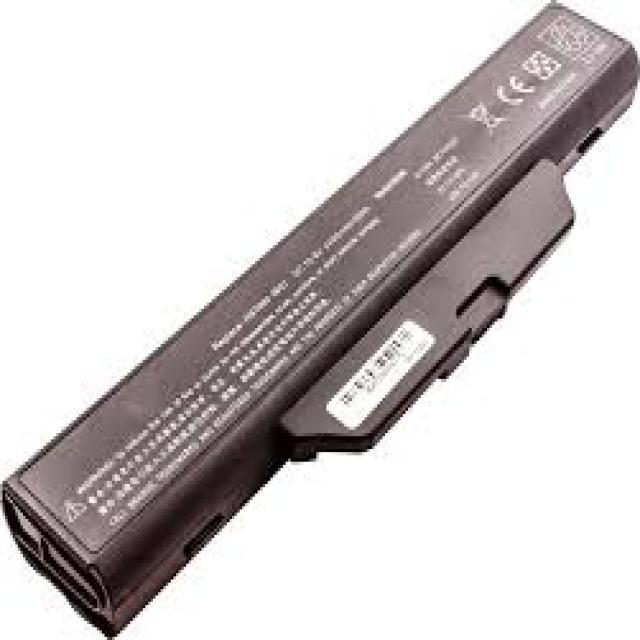Battery: (2, 0, 617, 640)
